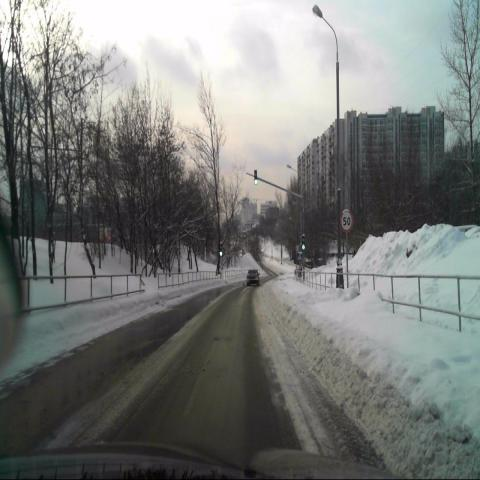3_24: (340, 207, 353, 233)
